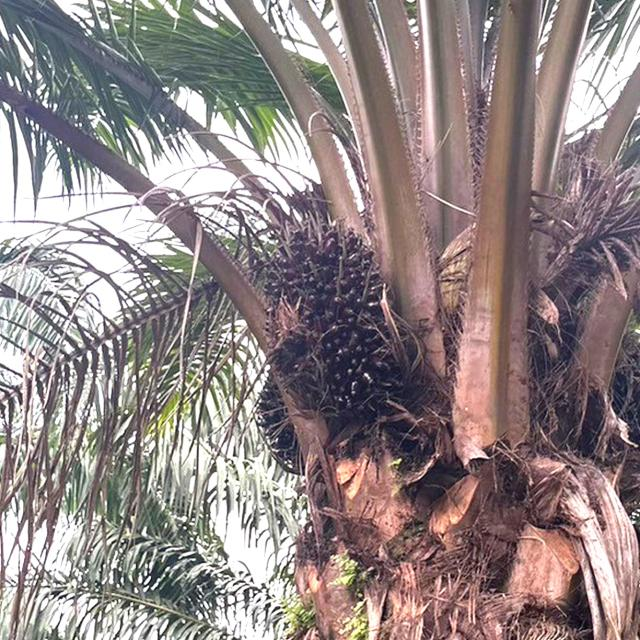ripe: (264, 202, 406, 317)
